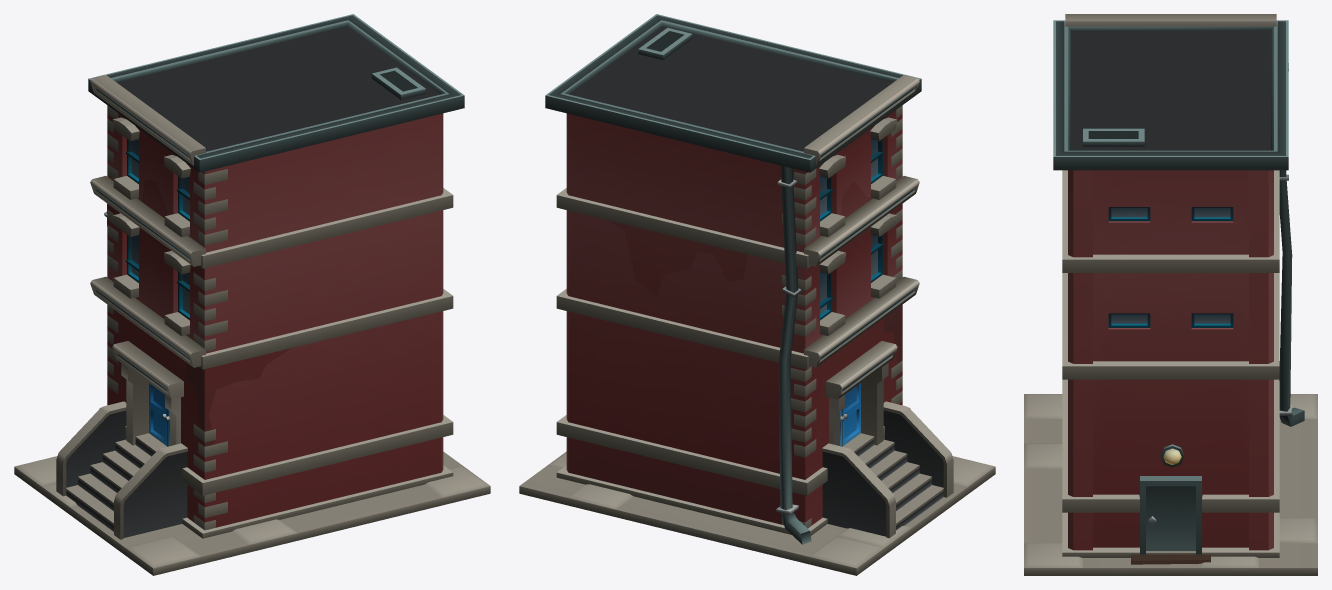
The model's file is Building_5D.fbx.
3 views of the same model, side by side, from view 1: azimuth 30°, elevation 25°; view 2: azimuth 150°, elevation 25°; view 3: azimuth 270°, elevation 25° (orthographic). The views are drawn at different scales.
Visible parts, largest first — view 1: Building_5D; view 2: Building_5D; view 3: Building_5D.
Part boxes in pixels (x1,y1,x2,y2): Building_5D: (14,14,490,575); Building_5D: (519,14,995,575); Building_5D: (1024,14,1317,575).
Bounding box in the file's own units: 1400 × 1570 × 1000.
